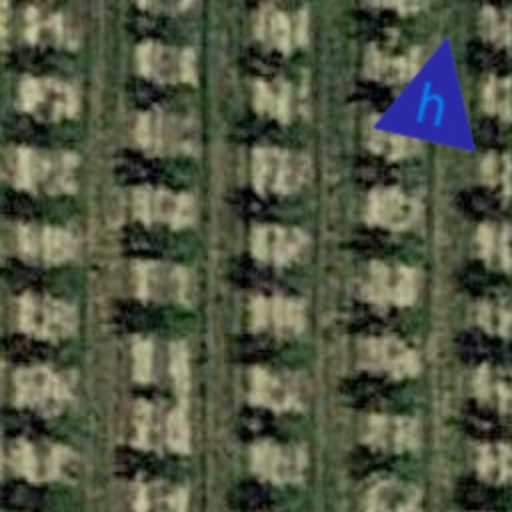triangle: (370, 22, 502, 154)
